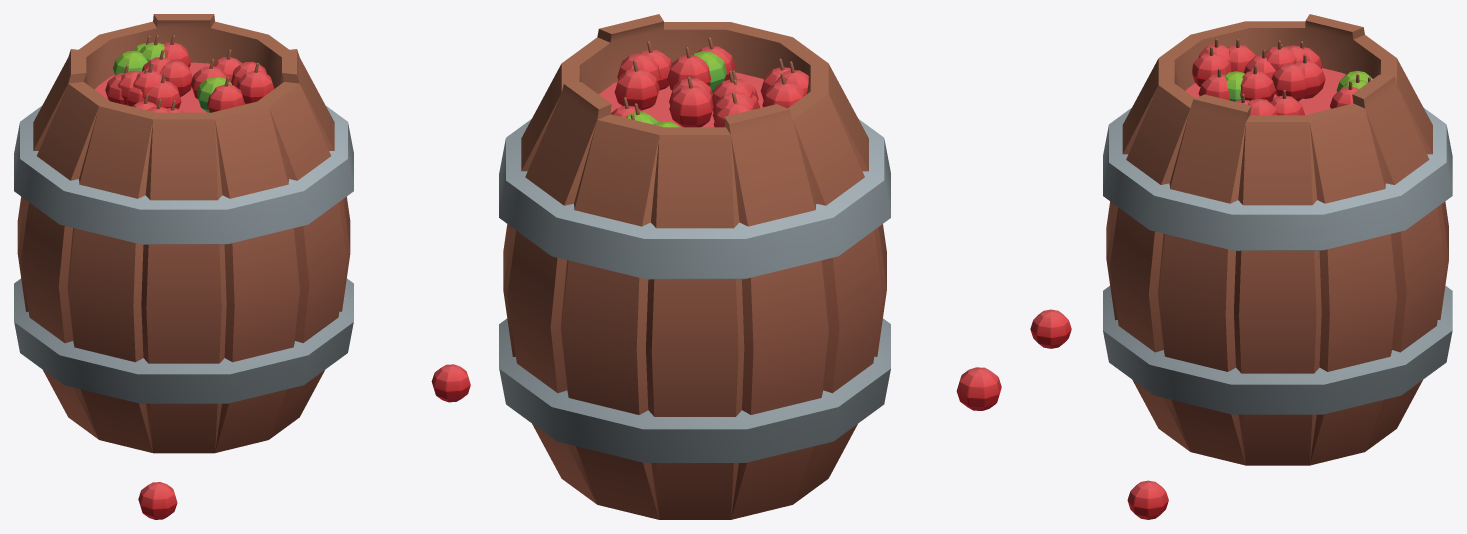
File: apple_barrel.glb
3 renders of one model, left to right at view 1: azimuth 30°, elevation 25°; view 2: azimuth 150°, elevation 25°; view 3: azimuth 270°, elevation 25°, orthographic. The views are drawn at different scales.
Visible parts, largest first — view 1: apple_barrel; view 2: apple_barrel; view 3: apple_barrel.
Part boxes in pixels (x1,y1,x2,y2): apple_barrel: (14, 14, 470, 519); apple_barrel: (499, 14, 1001, 519); apple_barrel: (1030, 14, 1452, 519).
Bounding box in the file's own units: 1.38 × 1.22 × 1.3.
Materials: 2 (2 with a texture image).
